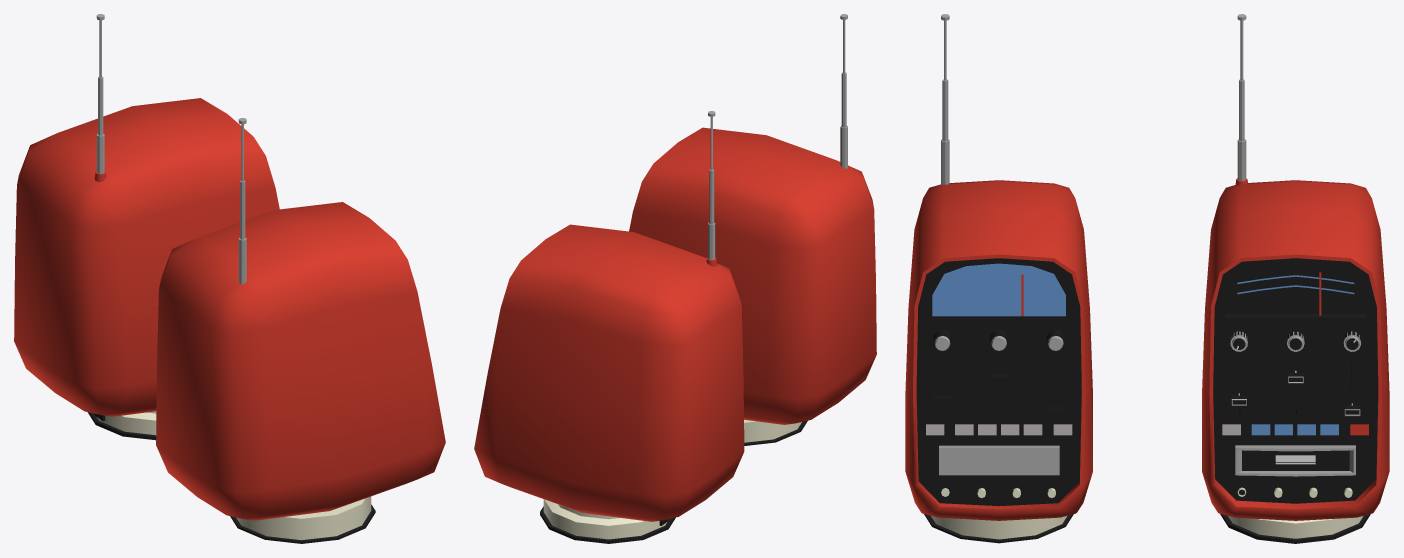
The model's file is Radio.fbx.
The picture shows the model from 3 angles, left to right: view 1: azimuth 30°, elevation 25°; view 2: azimuth 150°, elevation 25°; view 3: azimuth 270°, elevation 25°; orthographic projection. The views are drawn at different scales.
Visible parts, largest first — view 1: Boole_2, Boole_Display, Cylinder, Cylinder_3_11, Cylinder_1; view 2: Boole_Display, Boole_2, Cylinder_3_11, Cylinder, Cylinder_1_2; view 3: Boole_Display, Boole_2, Display, Cube_3, Cube_3_3, Cylinder, Cylinder_3_11, Cylinder_1_2, Cylinder_1.
Boxes of the visible parts, left/top/right/bottom form: Boole_2: left=156, top=202, right=445, bottom=520; Boole_Display: left=14, top=98, right=279, bottom=416; Cylinder: left=236, top=496, right=371, bottom=540; Cylinder_3_11: left=97, top=412, right=156, bottom=435; Cylinder_1: left=230, top=504, right=375, bottom=543; Boole_Display: left=474, top=224, right=744, bottom=521; Boole_2: left=629, top=127, right=876, bottom=424; Cylinder_3_11: left=543, top=499, right=666, bottom=539; Cylinder: left=744, top=419, right=801, bottom=442; Cylinder_1_2: left=540, top=506, right=675, bottom=543; Boole_Display: left=1202, top=180, right=1389, bottom=520; Boole_2: left=905, top=180, right=1092, bottom=520; Display: left=932, top=263, right=1065, bottom=316; Cube_3: left=939, top=445, right=1059, bottom=475; Cube_3_3: left=1235, top=445, right=1355, bottom=476; Cylinder: left=931, top=516, right=1066, bottom=539; Cylinder_3_11: left=1228, top=516, right=1363, bottom=538; Cylinder_1_2: left=1220, top=514, right=1370, bottom=543; Cylinder_1: left=924, top=514, right=1073, bottom=543.
Size of the model in its own units: 189 by 349 by 339.
